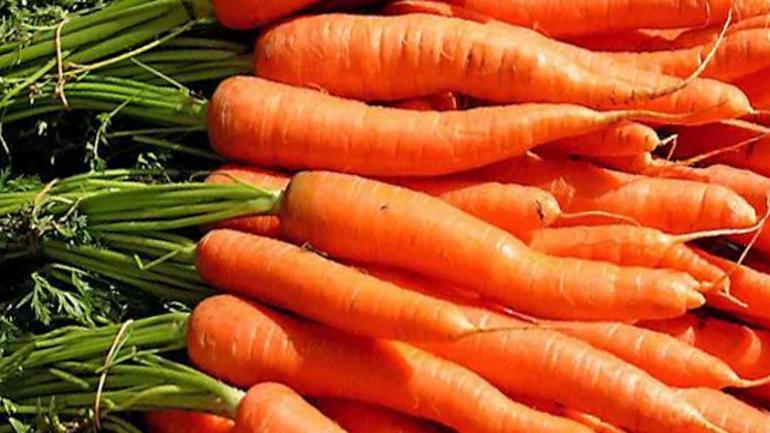carrot: (156, 15, 770, 433), (196, 259, 740, 429), (272, 177, 699, 326), (210, 10, 770, 123), (209, 83, 624, 173), (224, 19, 466, 95)
